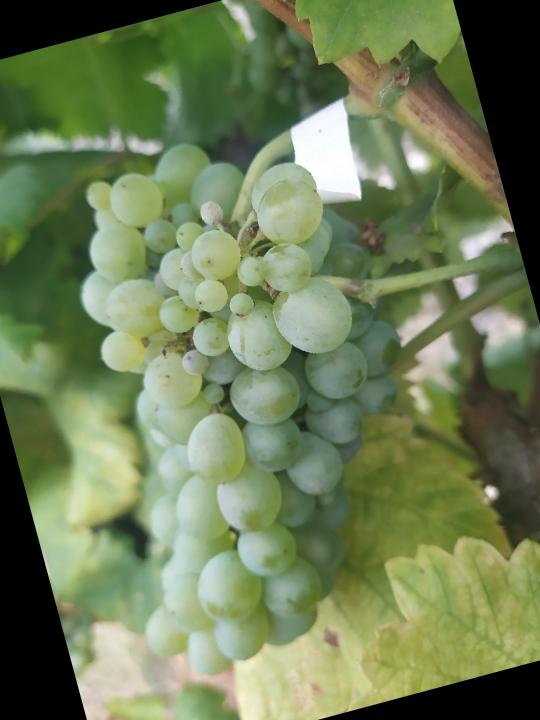grape: (22, 98, 476, 694)
